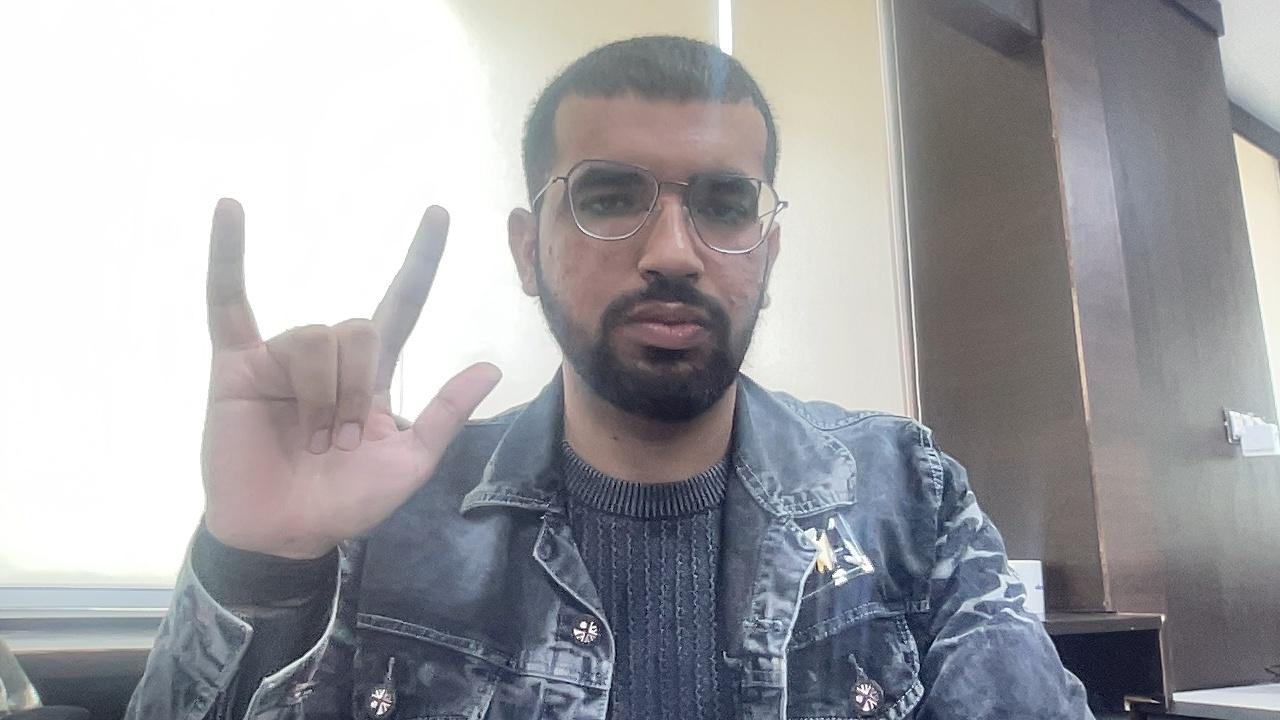I Love You: (124, 170, 524, 569)
